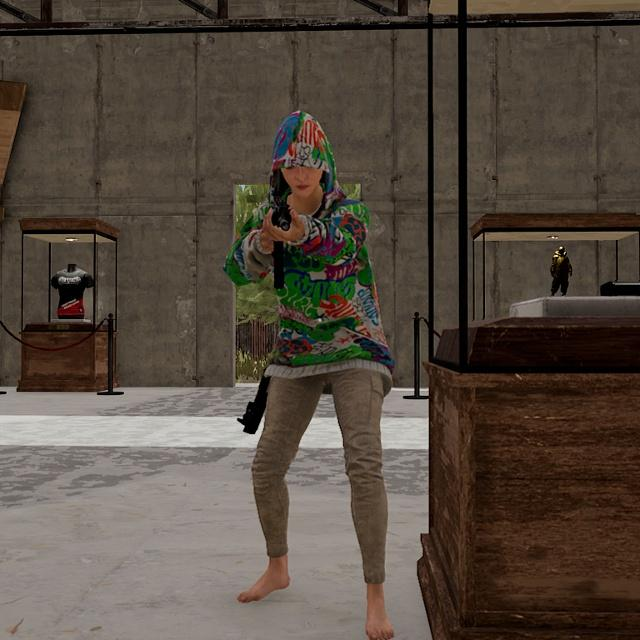head: (266, 109, 335, 199)
people: (218, 104, 405, 640)
